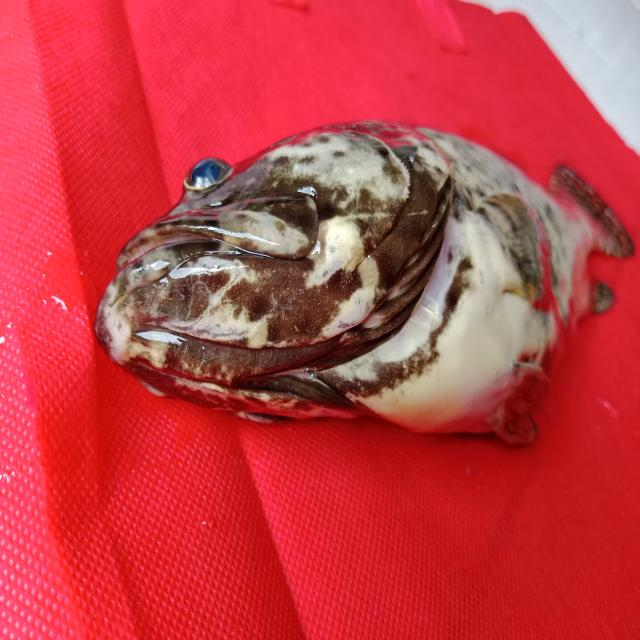ikan: (93, 119, 634, 448)
